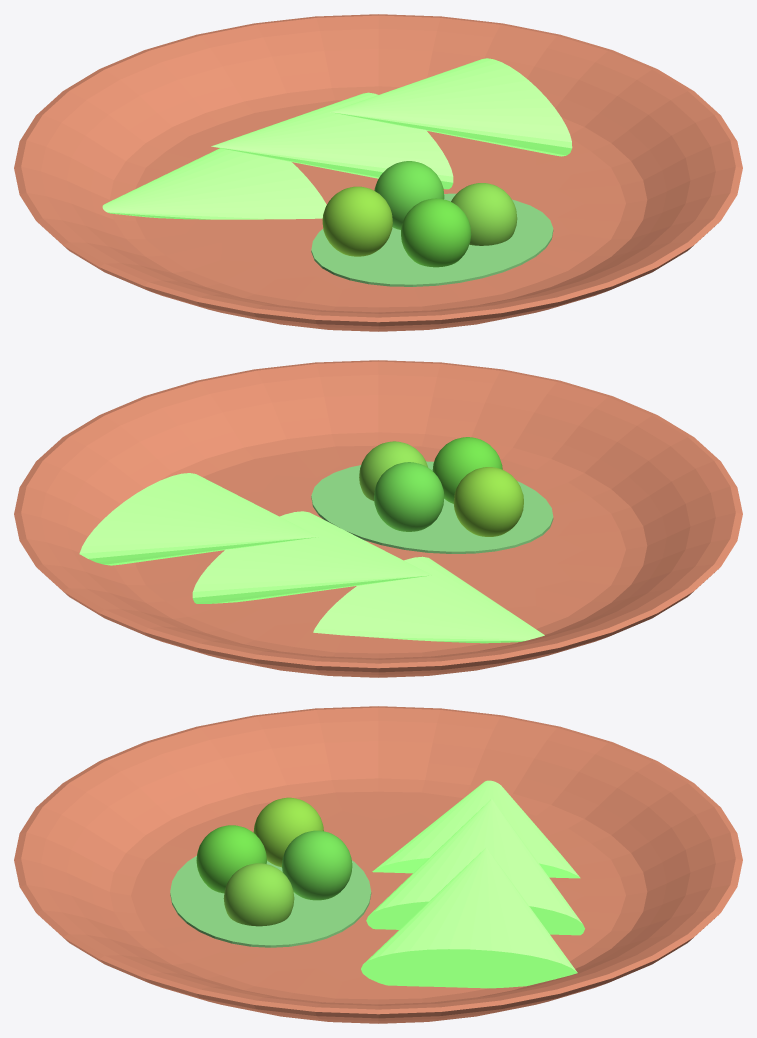
Rendered from KUE BUGIS.fbx.
3 renders of one model, top to bottom at view 1: azimuth 30°, elevation 25°; view 2: azimuth 150°, elevation 25°; view 3: azimuth 270°, elevation 25°, orthographic.
Visible parts, largest first — view 1: Cylinder, Cone.002, Cone.004, Cone.001, Cylinder.001, Sphere.001, Sphere.002, Sphere.003, Sphere; view 2: Cylinder, Cone.002, Cone.001, Cone.004, Cylinder.001, Sphere.001, Sphere, Sphere.002, Sphere.003; view 3: Cylinder, Cone.002, Cone.001, Cylinder.001, Cone.004, Sphere, Sphere.003, Sphere.002, Sphere.001.
Part boxes in pixels (x1=…): Cylinder: x1=14, y1=14, x2=742, y2=331; Cone.002: x1=330, y1=58, x2=572, y2=156; Cone.004: x1=102, y1=148, x2=326, y2=219; Cone.001: x1=211, y1=92, x2=453, y2=189; Cylinder.001: x1=311, y1=193, x2=553, y2=286; Sphere.001: x1=322, y1=186, x2=392, y2=256; Sphere.002: x1=401, y1=198, x2=471, y2=267; Sphere.003: x1=451, y1=183, x2=517, y2=245; Sphere: x1=374, y1=161, x2=444, y2=229; Cylinder: x1=14, y1=360, x2=742, y2=677; Cone.002: x1=79, y1=473, x2=318, y2=565; Cone.001: x1=192, y1=511, x2=432, y2=603; Cone.004: x1=313, y1=556, x2=544, y2=643; Cylinder.001: x1=311, y1=461, x2=553, y2=553; Sphere.001: x1=453, y1=467, x2=523, y2=536; Sphere: x1=374, y1=462, x2=444, y2=531; Sphere.002: x1=432, y1=437, x2=502, y2=503; Sphere.003: x1=359, y1=441, x2=428, y2=500; Cylinder: x1=14, y1=706, x2=742, y2=1023; Cone.002: x1=361, y1=847, x2=577, y2=988; Cone.001: x1=366, y1=799, x2=584, y2=935; Cylinder.001: x1=170, y1=855, x2=371, y2=947; Cone.004: x1=372, y1=780, x2=580, y2=878; Sphere: x1=282, y1=830, x2=352, y2=900; Sphere.003: x1=223, y1=863, x2=294, y2=926; Sphere.002: x1=196, y1=825, x2=266, y2=893; Sphere.001: x1=253, y1=797, x2=323, y2=867.
Bounding box in the file's own units: 231 × 33.76 × 231.
